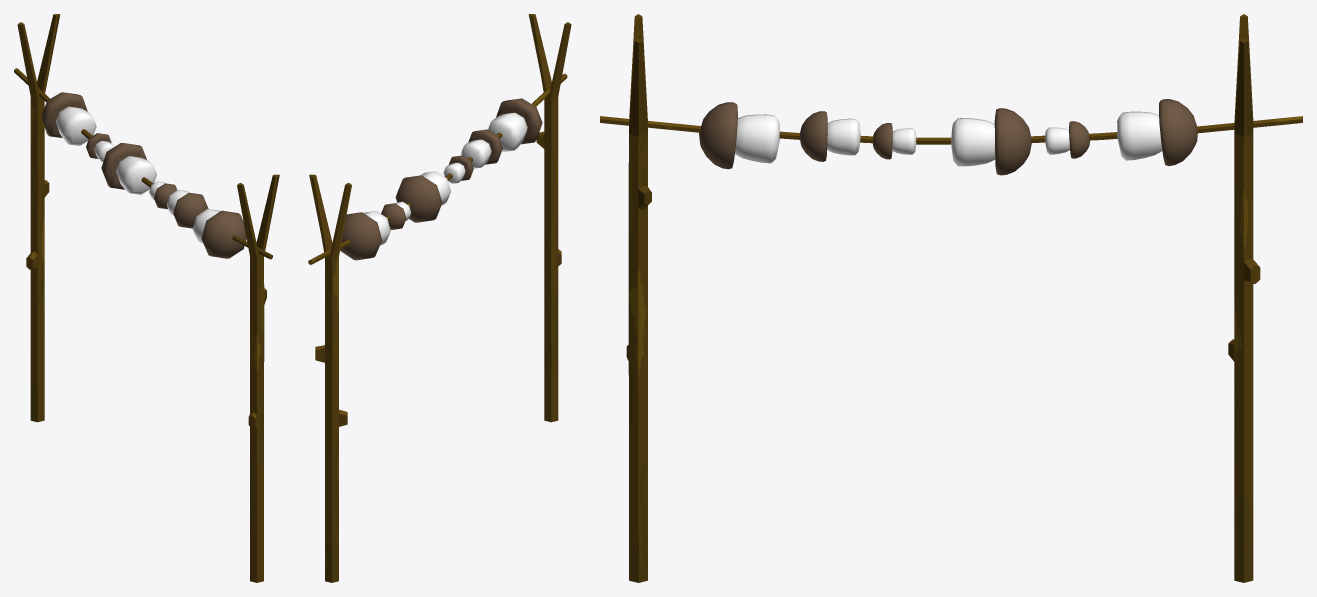
The model's file is mushroom_stickfbx.fbx.
The picture shows the model from 3 angles, left to right: view 1: azimuth 30°, elevation 25°; view 2: azimuth 150°, elevation 25°; view 3: azimuth 270°, elevation 25°; orthographic projection. The views are drawn at different scales.
Visible parts, largest first — view 1: King_Bolete_Mushroom; view 2: King_Bolete_Mushroom; view 3: King_Bolete_Mushroom.
Part boxes in pixels (x1=…): King_Bolete_Mushroom: x1=14, y1=14, x2=279, y2=582; King_Bolete_Mushroom: x1=308, y1=14, x2=571, y2=582; King_Bolete_Mushroom: x1=600, y1=14, x2=1302, y2=582.
Bounding box in the file's own units: 693 × 5929 × 6858.
